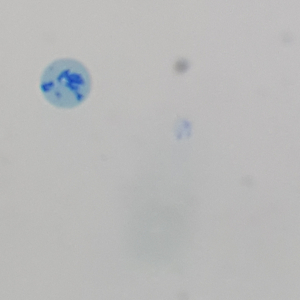aggregate reticulocyte: (38, 56, 95, 111)
